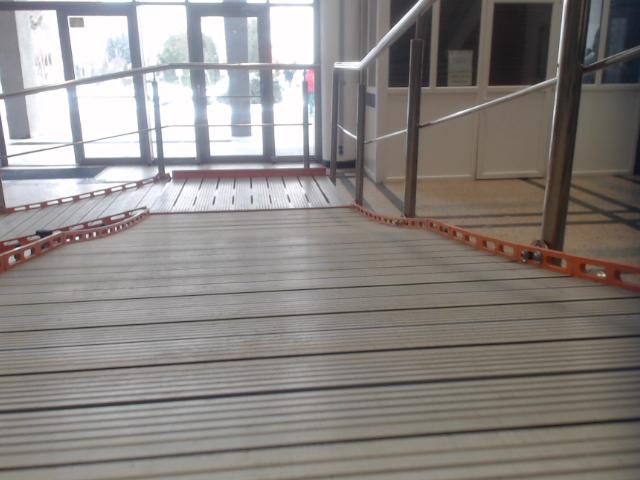rampDown: (0, 170, 639, 479)
ramps-railing: (403, 39, 557, 217), (332, 0, 435, 203), (541, 0, 590, 250), (0, 63, 319, 99), (334, 0, 435, 73), (355, 95, 403, 204), (0, 129, 156, 158), (579, 46, 639, 74), (152, 77, 163, 174), (302, 82, 310, 167), (571, 2, 588, 37), (330, 113, 336, 181), (548, 186, 568, 205), (561, 2, 570, 44), (193, 124, 231, 132), (331, 111, 338, 146), (156, 124, 189, 129), (238, 124, 273, 125)
